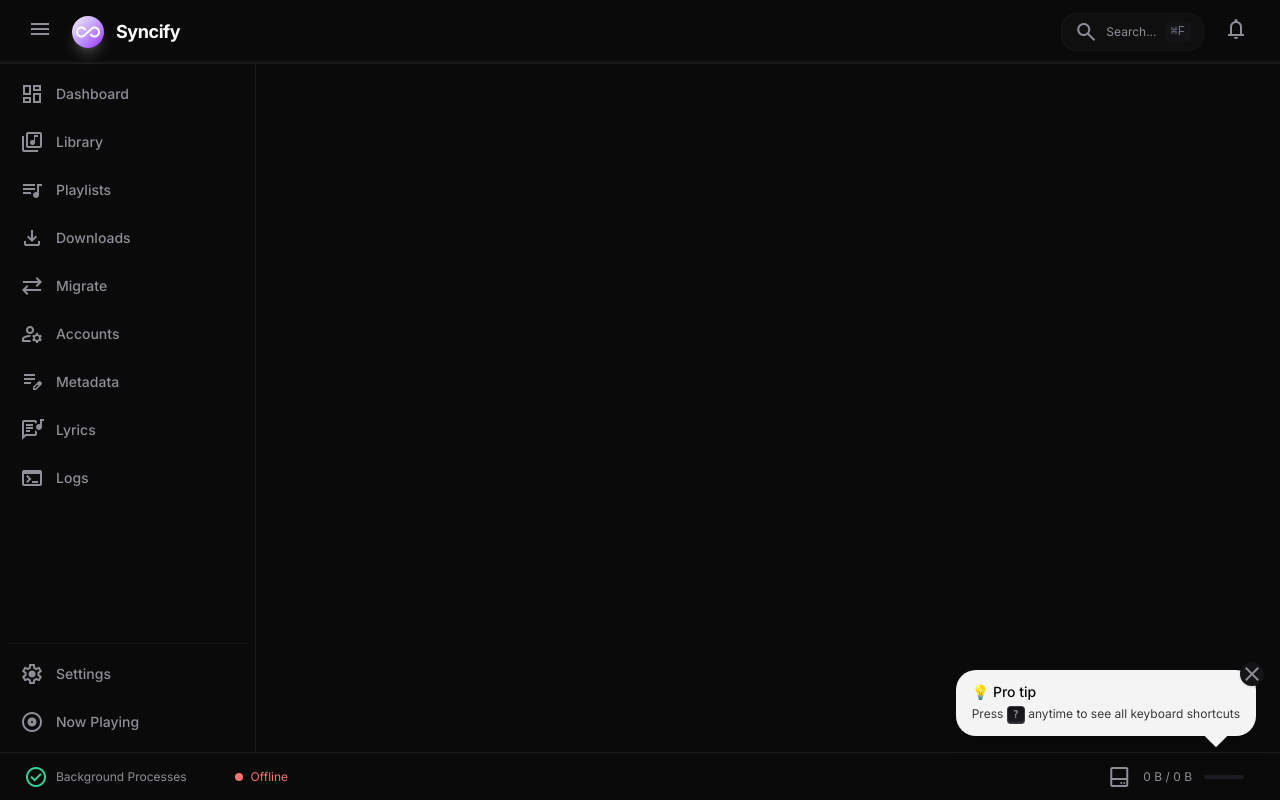
Test case: Ola 1 — cascarón › keeps Settings reachable as an icon + title when the sidebar is collapsed (UI-CORR-4)
This screenshot has width=1280, height=800.
Click the button with test id "nav-drawer-toggle". click: coordinates (40, 32)
box: 20,8 -> 60,54
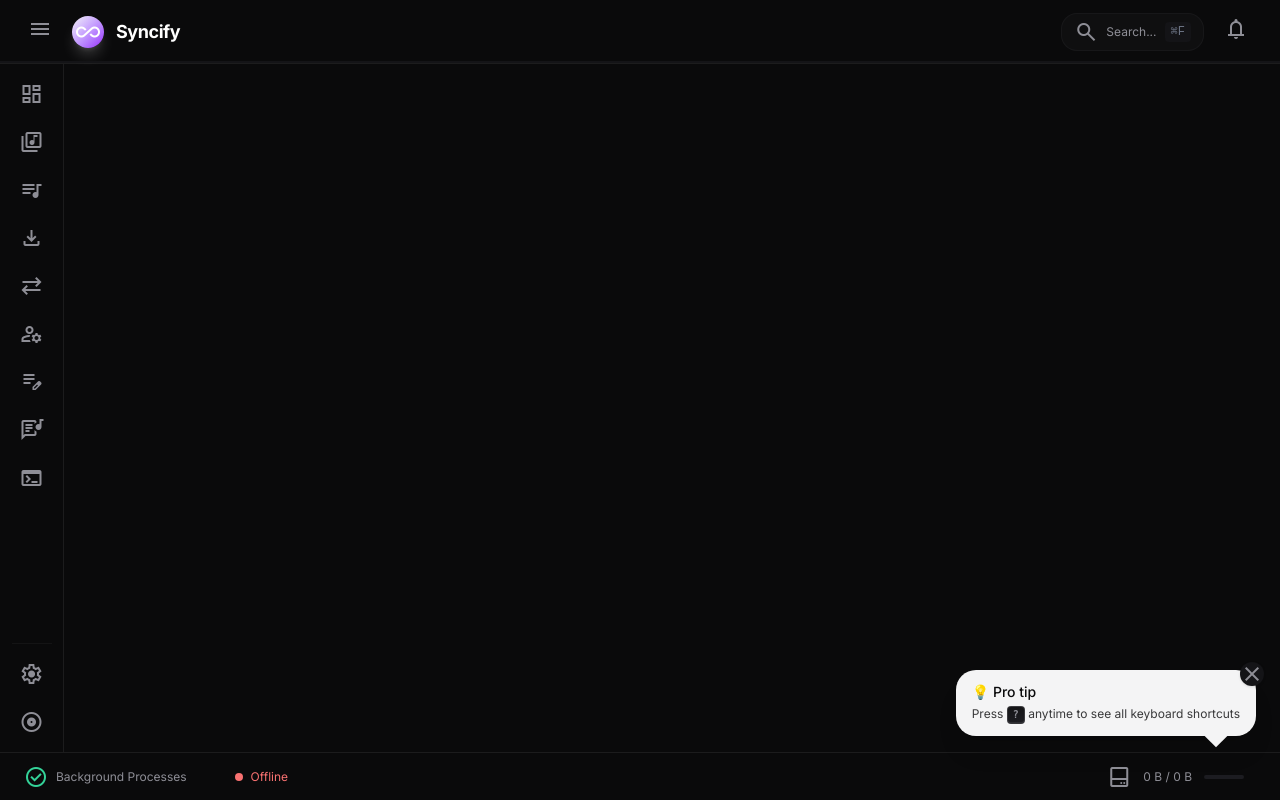
Check: the link titled "Settings" is shown, box 20,660 -> 44,688
Check: the text with test id "nav-drawer" no longer shows "Settings"
